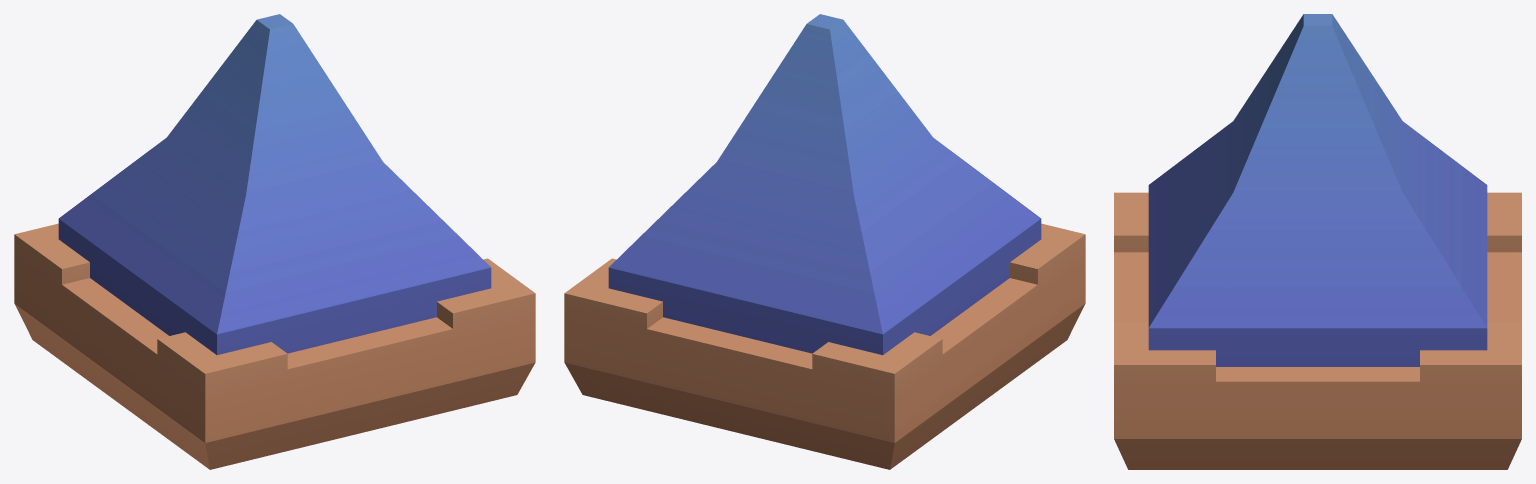
Rendered from tower-square-top-roof.glb.
The picture shows the model from 3 angles, left to right: view 1: azimuth 30°, elevation 25°; view 2: azimuth 150°, elevation 25°; view 3: azimuth 270°, elevation 25°; orthographic projection. The views are drawn at different scales.
Visible parts, largest first — view 1: tower-square-top-roof; view 2: tower-square-top-roof; view 3: tower-square-top-roof.
Part boxes in pixels (x1=…): tower-square-top-roof: x1=14, y1=14, x2=535, y2=469; tower-square-top-roof: x1=564, y1=14, x2=1085, y2=469; tower-square-top-roof: x1=1114, y1=14, x2=1521, y2=469.
Size of the model in its own units: 1 by 1 by 1.
1 material, 1 textured.
